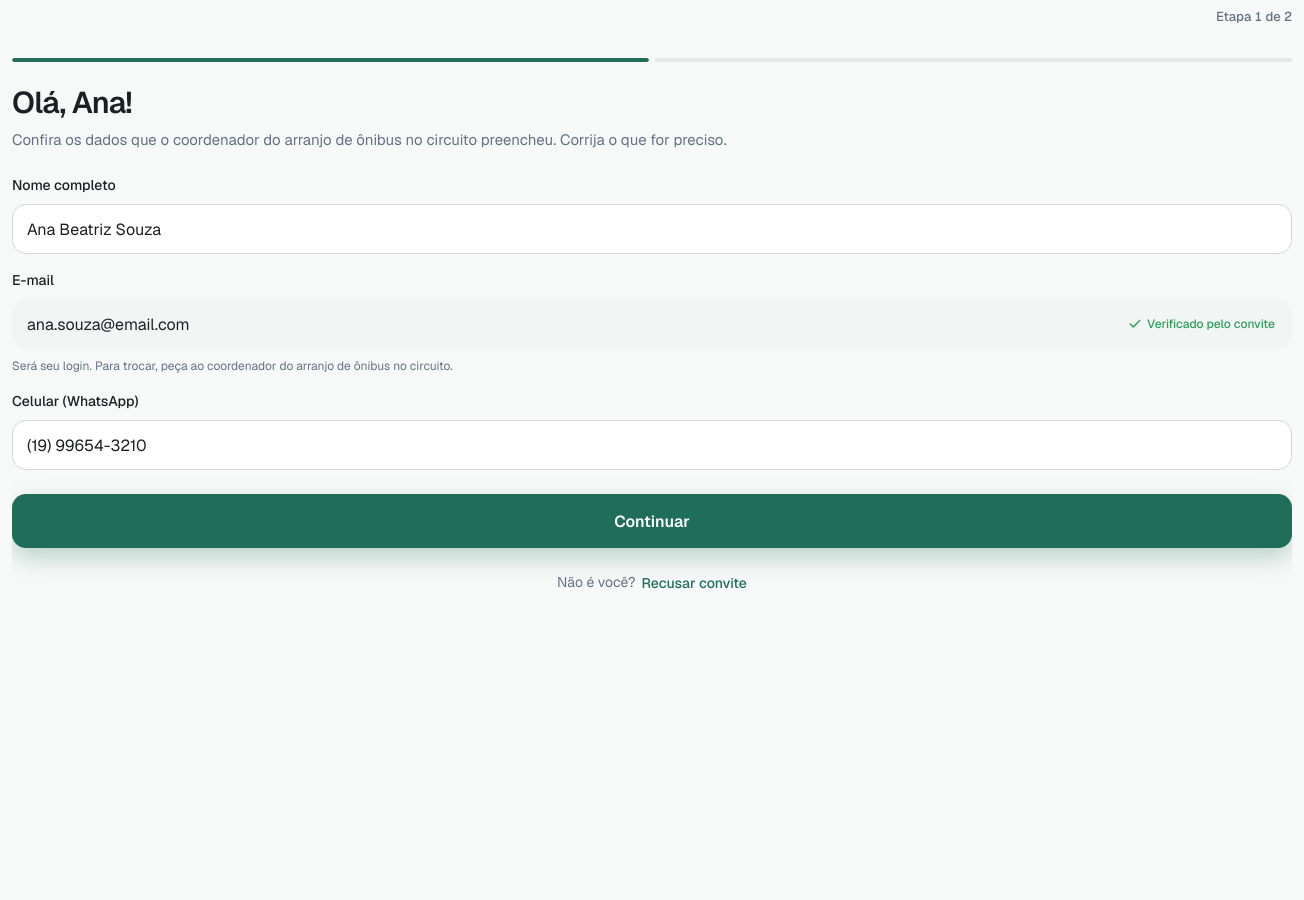
Scenario: AcceptInvitationFlow — etapa de dados › não avança com nome sem sobrenome e diz o que corrigir
This screenshot has width=1304, height=900.
Replace the text in the field labelled "Nome completo" with "Ana" at (655, 229), box [27, 205, 1283, 253]
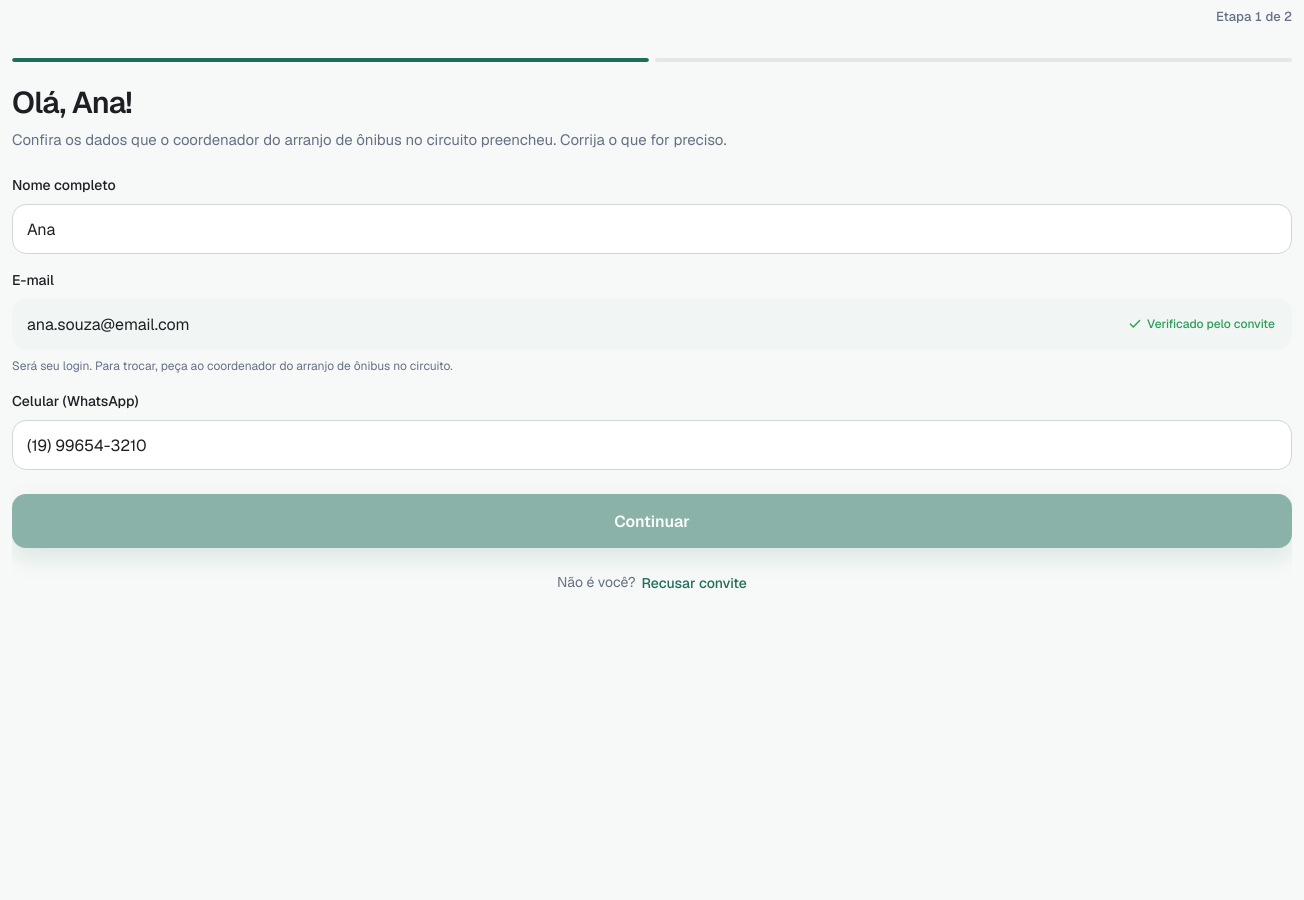
Click the button "Continuar" at (652, 521), box [12, 494, 1292, 548]
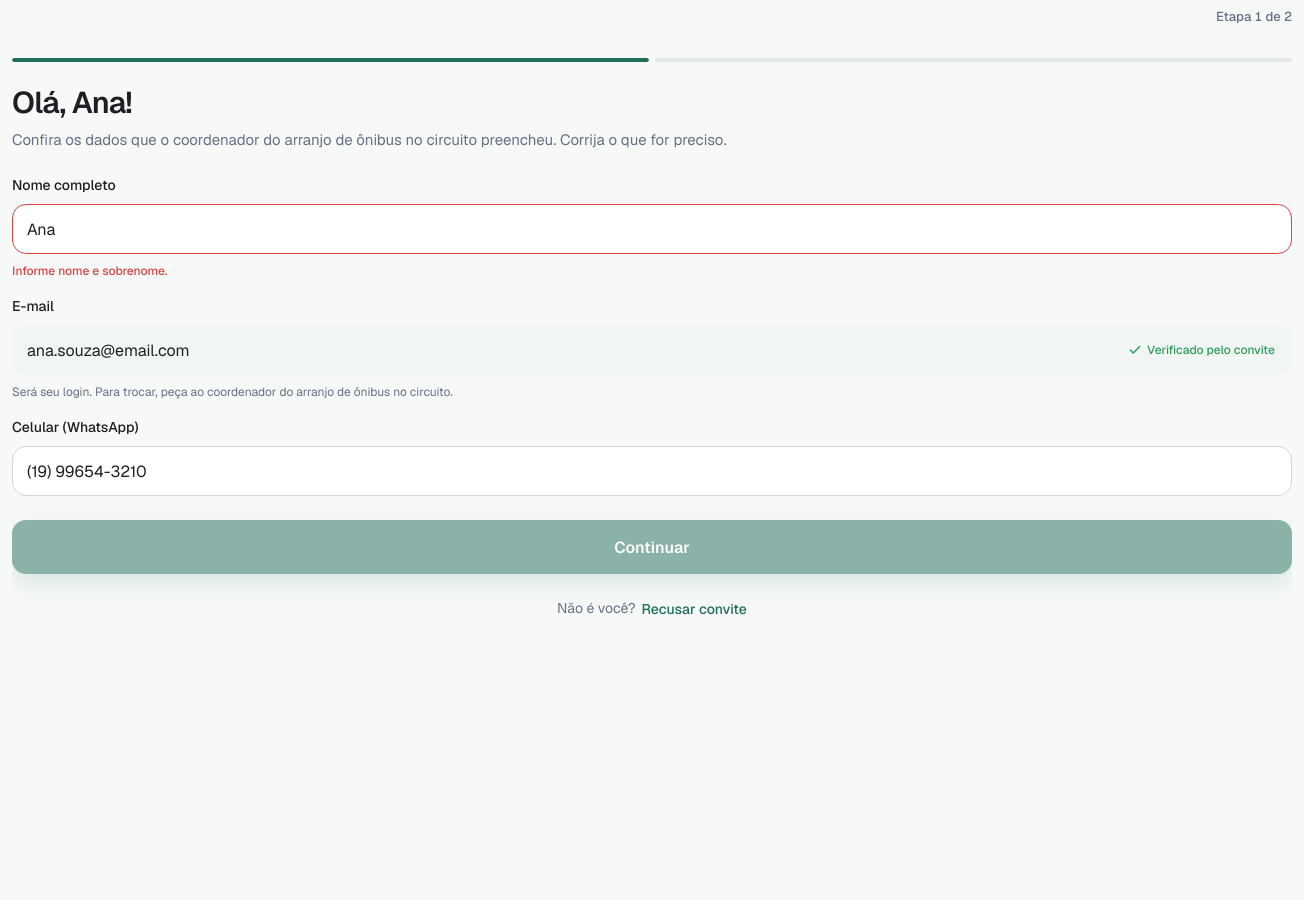
Now the text "Informe nome e sobrenome." is shown, box [12, 263, 167, 279]
